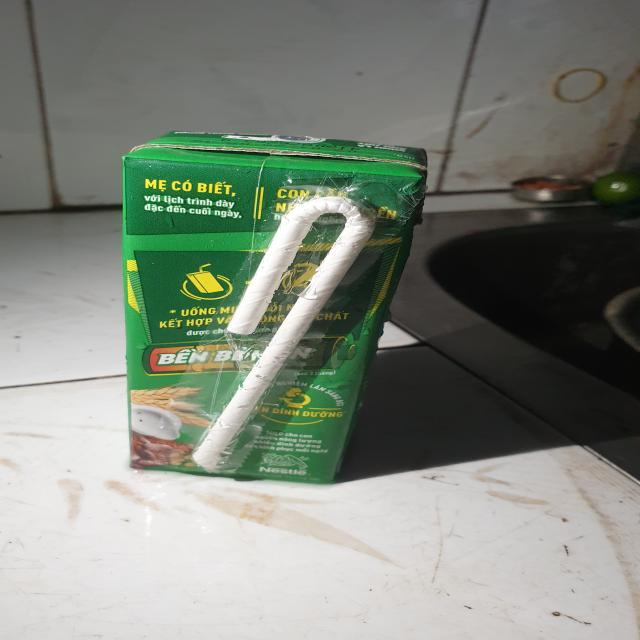Milo: (114, 127, 433, 490)
